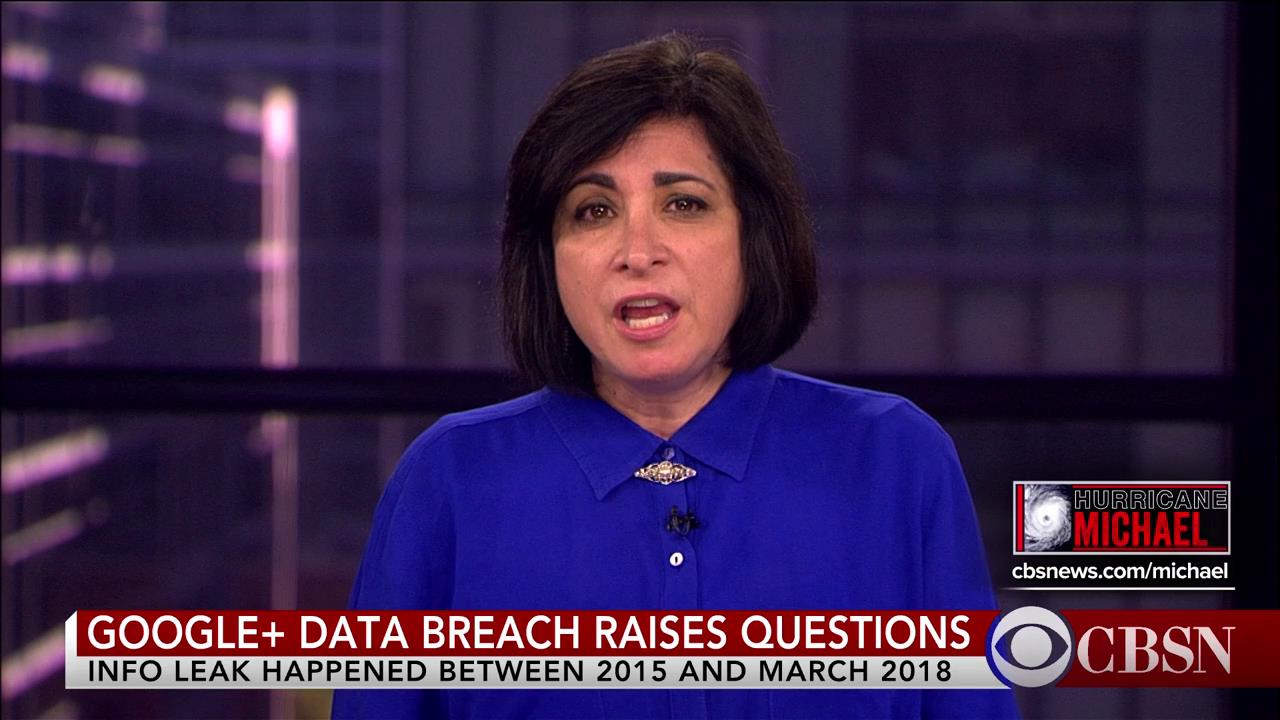CBSN: (1077, 623, 1237, 677)
GOOGLE+ DATA BREACH RAISES QUESTIONS: (85, 613, 972, 650)
HURRICANE: (1072, 488, 1228, 509)
INFO LEAK HAPPENED BETWEEN 2015 and MARCH 2018: (85, 656, 955, 683)
MICHAEL: (1073, 511, 1211, 549)
cbsnews.com/michael: (1010, 562, 1232, 582)
